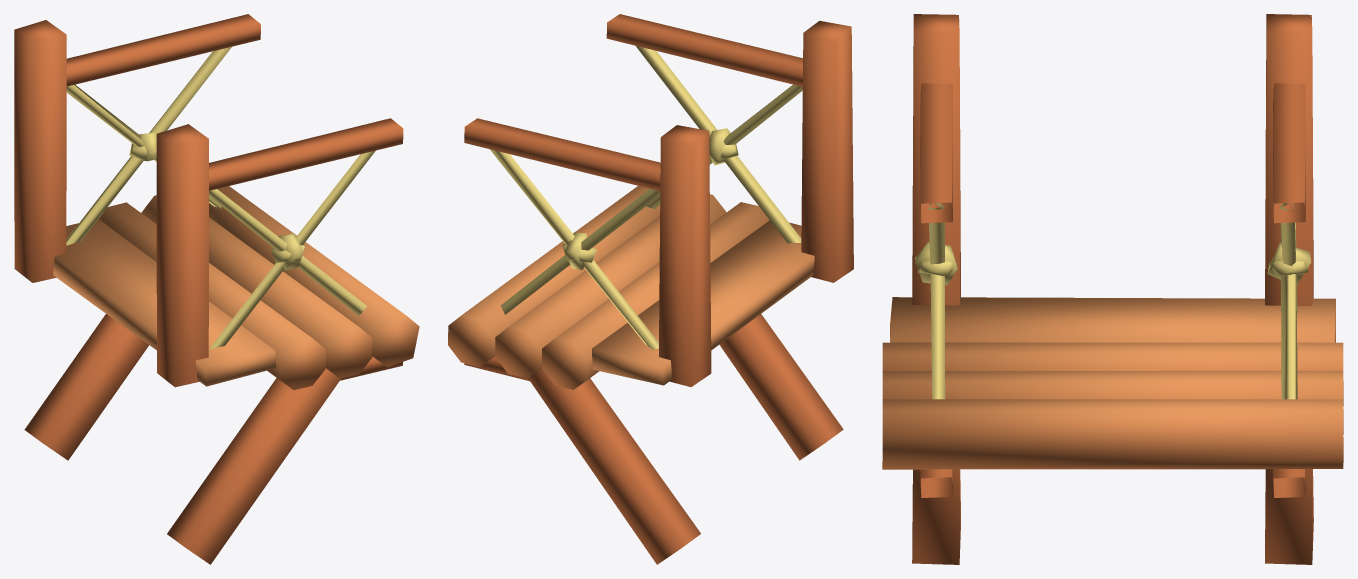
Rendered from bridgeStart.glb.
3 views of the same model, side by side, from view 1: azimuth 30°, elevation 25°; view 2: azimuth 150°, elevation 25°; view 3: azimuth 270°, elevation 25° (orthographic). The views are drawn at different scales.
Visible parts, largest first — view 1: bridgeStart; view 2: bridgeStart; view 3: bridgeStart.
Part boxes in pixels (box(x1,y1,x2,y2)): bridgeStart: box(14, 14, 419, 564); bridgeStart: box(448, 14, 853, 564); bridgeStart: box(882, 14, 1343, 564).
Bounding box in the file's own units: 0.9962 × 1.76 × 1.38.
1 material, 1 textured.
